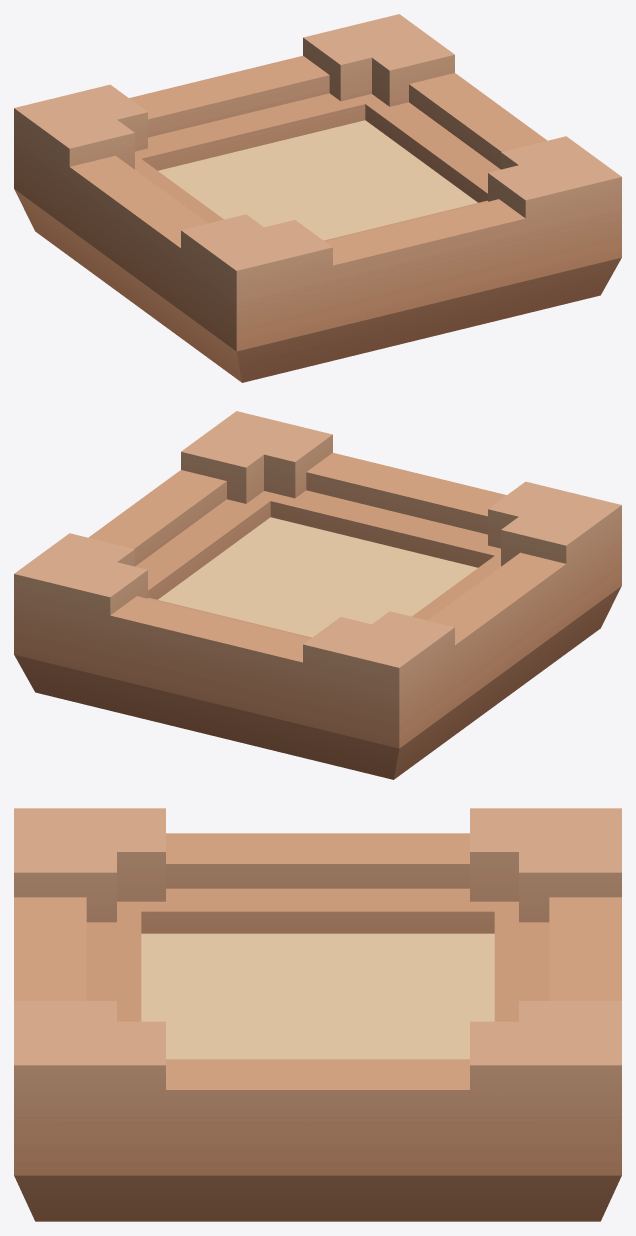
File: p-castle-tower-square-top.glb
The picture shows the model from 3 angles, top to bottom: view 1: azimuth 30°, elevation 25°; view 2: azimuth 150°, elevation 25°; view 3: azimuth 270°, elevation 25°; orthographic projection. The views are drawn at different scales.
Parts seen in each view (by area): view 1: tower-square-top; view 2: tower-square-top; view 3: tower-square-top.
Part boxes in pixels (x1,y1,x2,y2): tower-square-top: (14,14,621,382); tower-square-top: (14,411,621,779); tower-square-top: (14,808,621,1221).
Bounding box in the file's own units: 1 × 0.3 × 1.
1 material, 1 textured.
